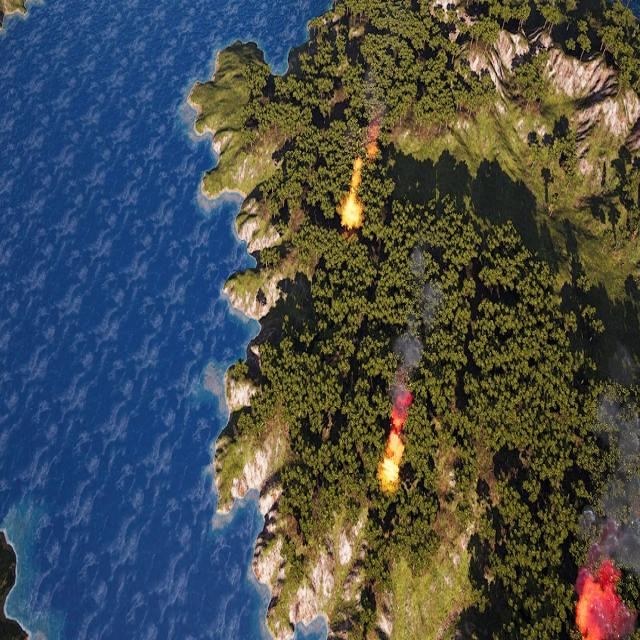fire: (575, 567, 623, 640), (381, 430, 404, 485), (342, 194, 363, 228), (350, 160, 362, 192)
smoke: (576, 338, 639, 636), (383, 245, 438, 431)
